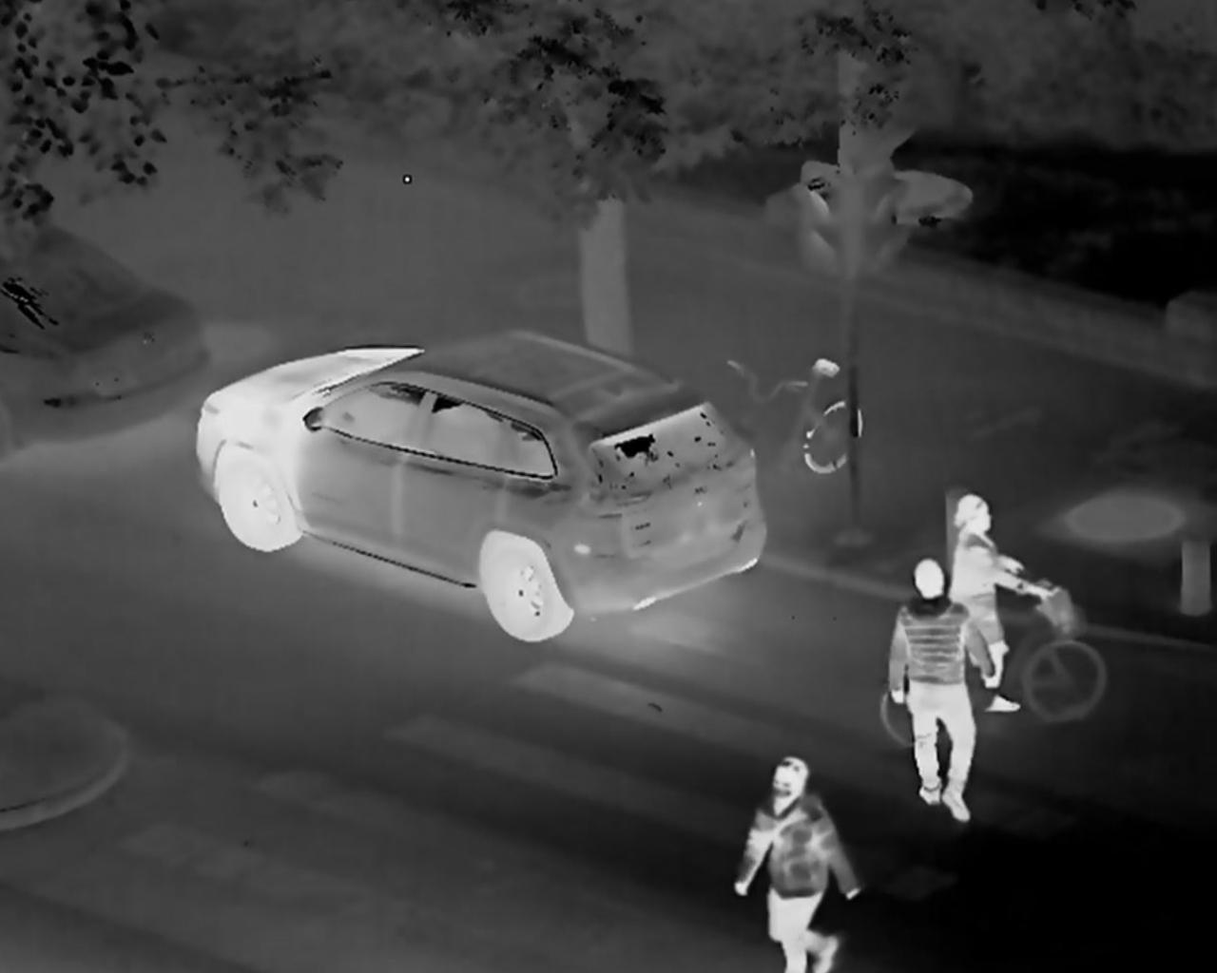person: (726, 753, 851, 973), (887, 562, 989, 823), (945, 494, 1054, 718)
